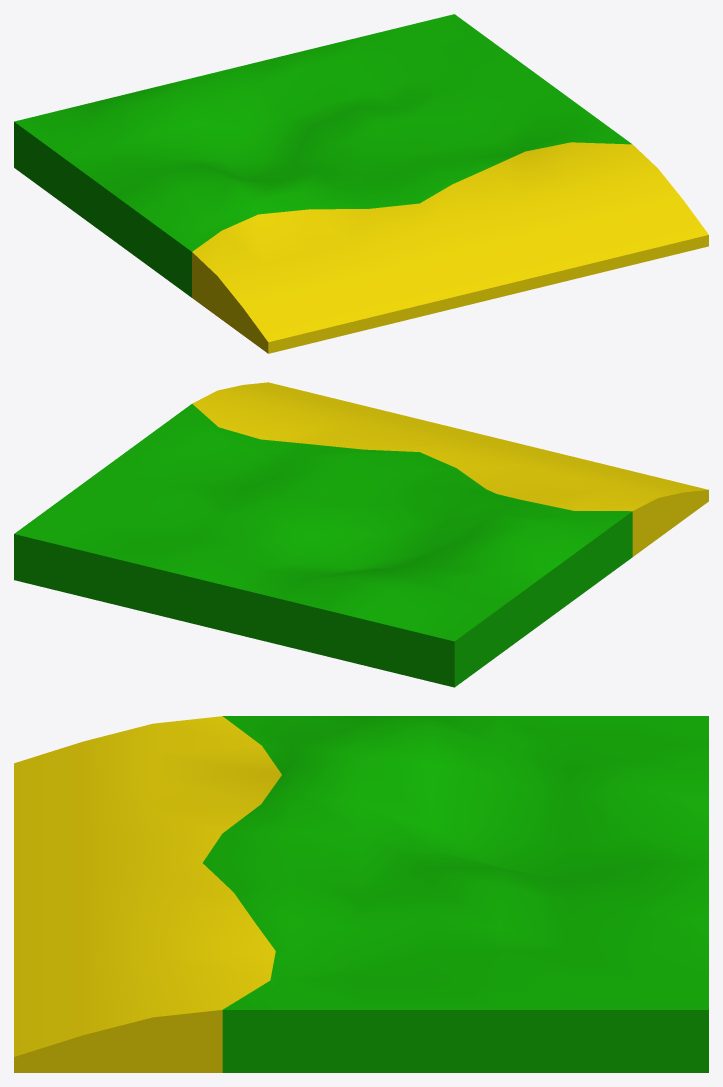
Rendered from island_lateral_02.fbx.
3 renders of one model, top to bottom at view 1: azimuth 30°, elevation 25°; view 2: azimuth 150°, elevation 25°; view 3: azimuth 270°, elevation 25°, orthographic. The views are drawn at different scales.
Parts seen in each view (by area): view 1: Box001; view 2: Box001; view 3: Box001.
Part boxes in pixels (x1,y1,x2,y2): Box001: [14, 14, 708, 353]; Box001: [14, 382, 708, 687]; Box001: [14, 716, 708, 1072].
Size of the model in its own units: 400 by 52.2 by 400.
